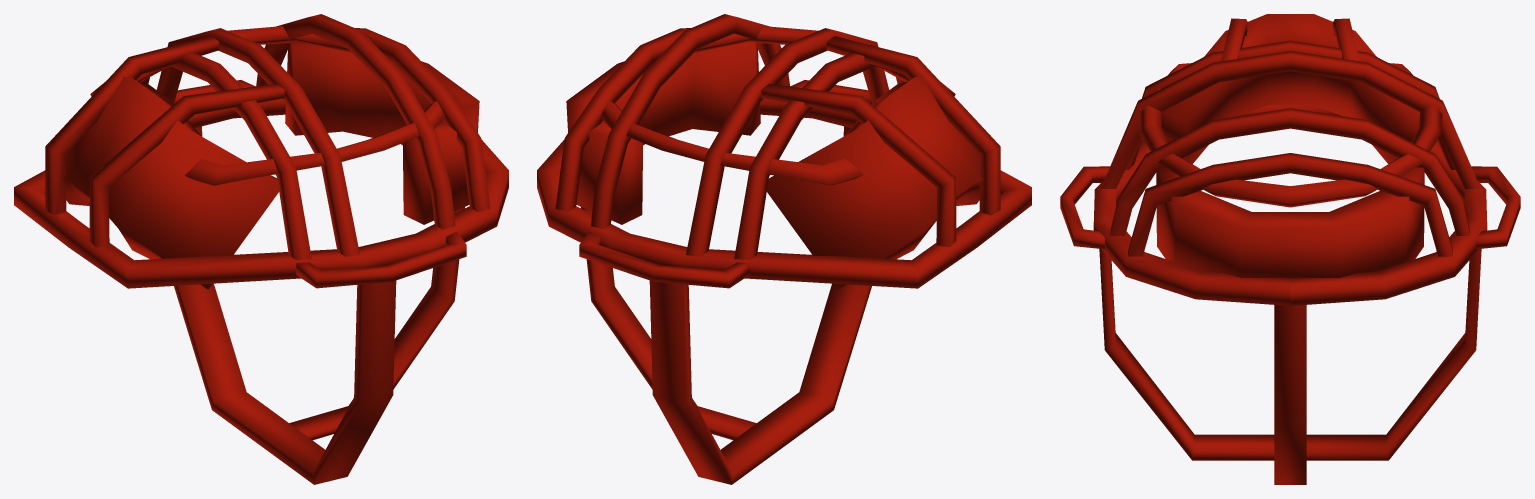
The model's file is bbl_c_mask__bbl_c_mask.glb.
The picture shows the model from 3 angles, left to right: view 1: azimuth 30°, elevation 25°; view 2: azimuth 150°, elevation 25°; view 3: azimuth 270°, elevation 25°; orthographic projection. The views are drawn at different scales.
Visible parts, largest first — view 1: polygon0; view 2: polygon0; view 3: polygon0.
Boxes of the visible parts, x1,y1,x2,y2 form: polygon0: [14, 14, 508, 484]; polygon0: [537, 14, 1031, 484]; polygon0: [1060, 14, 1520, 484].
Bounding box in the file's own units: 6.7 × 6.36 × 6.86.
Materials: 1 (1 with a texture image).
